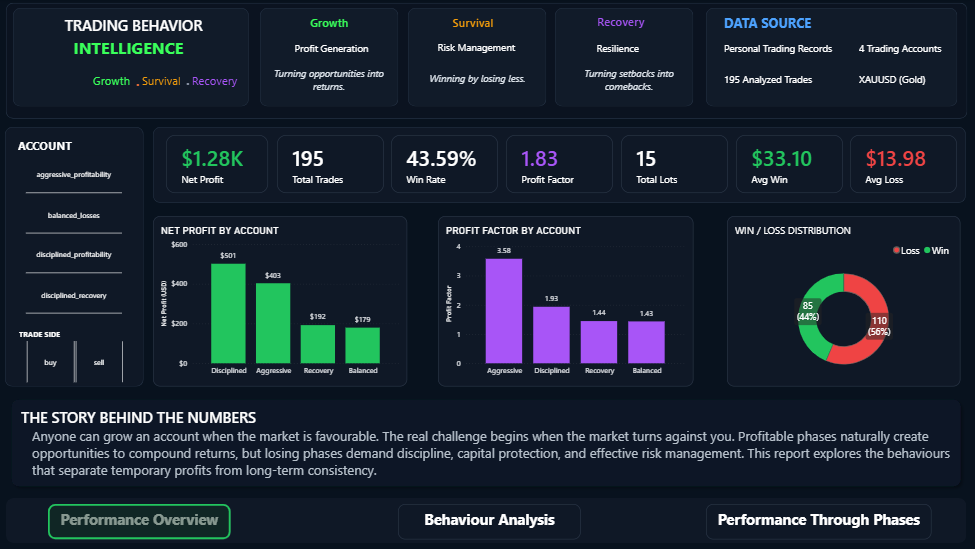

Layout of this report page (visuals, bound fields, positions):
{"tool":"powerbi","page":{"name":"Performance Overview","canvas":[1600,900],"ordinal":0},"visuals":[{"type":"shape","box":[10,3.6,1579.5,195.6],"z":0},{"type":"shape","box":[25.4,14.5,385.8,161.2],"z":1000},{"type":"shape","box":[429.3,14.5,226.4,161.2],"z":2000},{"type":"shape","box":[670.2,14.5,226.4,161.2],"z":3000},{"type":"shape","box":[911.1,14.5,226.4,161.2],"z":4000},{"type":"shape","box":[1159.2,14.5,411.2,161.2],"z":5000},{"type":"shape","box":[10.8,208.8,226.8,424.8],"z":6000},{"type":"shape","box":[253.8,208.8,1330.2,124.2],"z":7000},{"type":"cardVisual","fields":{"Data":["fact_trades.Net Profit"]},"box":[275.4,223.2,167.4,95.4],"z":8000},{"type":"textbox","box":[32.4,21.6,378,54],"z":9000},{"type":"textbox","box":[25.2,55.8,378,48.6],"z":10000},{"type":"shape","box":[12.6,817.2,1571.4,73.8],"z":11000},{"type":"shape","box":[12.6,646.2,1571.4,160.2],"z":12000},{"type":"textbox","box":[150.3,115.9,74.3,38],"z":13000},{"type":"textbox","box":[230,115.9,74.3,38],"z":14000},{"type":"textbox","box":[313.4,115.9,85.1,38],"z":15000},{"type":"textbox","box":[302.5,123.2,16.3,32.6],"z":16000},{"type":"textbox","box":[221,125,16.3,32.6],"z":17000},{"type":"textbox","box":[428.4,21.6,226.8,37.8],"z":18000},{"type":"textbox","box":[669.6,21.6,216,37.8],"z":19000},{"type":"textbox","box":[910.8,19.8,216,39.6],"z":20000},{"type":"textbox","box":[428.4,64.8,234,34.2],"z":21000},{"type":"textbox","box":[669.6,63,226.8,34.2],"z":22000},{"type":"textbox","box":[910.8,64.8,205.2,34.2],"z":23000},{"type":"textbox","box":[442,106.9,199.2,58],"z":24000},{"type":"textbox","box":[684.7,114.1,201.1,52.5],"z":25000},{"type":"textbox","box":[940.1,106.9,186.6,56.2],"z":26000},{"type":"textbox","box":[1182.8,19.9,157.6,41.7],"z":27000},{"type":"textbox","box":[1182.8,65.2,195.6,30.8],"z":28000},{"type":"textbox","box":[1182.8,115.9,172.1,34.4],"z":29000},{"type":"textbox","box":[1403.8,65.2,172.1,34.4],"z":30000},{"type":"textbox","box":[1403.8,115.9,172.1,34.4],"z":31000},{"type":"clusteredColumnChart","title":"NET PROFIT BY ACCOUNT","fields":{"Category":["fact_trades.Display Account"],"Y":["fact_trades.Net Profit"]},"box":[253.8,354.6,415.8,279],"z":32000},{"type":"clusteredColumnChart","title":"PROFIT FACTOR BY ACCOUNT","fields":{"Y":["fact_trades.Profit Factor"],"Category":["fact_trades.Display Account"]},"box":[720,354.6,417.6,279],"z":33000},{"type":"donutChart","title":"WIN / LOSS DISTRIBUTION","fields":{"Category":["fact_trades.result"],"Y":["fact_trades.Total Trades"]},"box":[1193.4,354.6,381.6,279],"z":34000},{"type":"textbox","box":[50.4,694.8,1526.4,95.4],"z":35000},{"type":"textbox","box":[32.4,662.4,410.4,64.8],"z":36000},{"type":"slicer","fields":{"Values":["fact_trades.a/c_name"]},"box":[19.8,223.2,207,298.8],"z":37000},{"type":"slicer","fields":{"Values":["fact_trades.side"]},"box":[21.6,534.6,207,99],"z":38000},{"type":"textbox","box":[81,826.2,298.8,57.6],"z":39000},{"type":"textbox","box":[655.2,826.2,298.8,57.6],"z":40000},{"type":"textbox","box":[1159.2,826.2,369,57.6],"z":41000},{"type":"cardVisual","fields":{"Data":["fact_trades.Total Trades"]},"box":[456,223.2,174.6,95.4],"z":42000},{"type":"cardVisual","fields":{"Data":["fact_trades.Win Rate"]},"box":[643.8,223.2,174.6,95.4],"z":43000},{"type":"cardVisual","fields":{"Data":["fact_trades.Profit Factor"]},"box":[831.6,223.2,174.6,95.4],"z":44000},{"type":"cardVisual","fields":{"Data":["fact_trades.Total Lots"]},"box":[1019.4,223.2,174.6,95.4],"z":45000},{"type":"cardVisual","fields":{"Data":["fact_trades.Avg Win"]},"box":[1207.2,223.2,174.6,95.4],"z":46000},{"type":"cardVisual","fields":{"Data":["fact_trades.Avg Loss"]},"box":[1395,223.2,174.6,95.4],"z":47000},{"type":"actionButton","box":[81,826.2,298.8,57.6],"z":48000},{"type":"actionButton","box":[655.2,826.2,298.8,57.6],"z":49000},{"type":"actionButton","box":[1159.2,826.2,369,57.6],"z":50000}]}

Visuals, with their boxes in screenshot pixels (x1, y1, x2, y2), scaled from the page's 1600x900 canvas onto the 975x549 screenshot:
shape: <region>6, 2, 969, 122</region>
shape: <region>15, 9, 251, 107</region>
shape: <region>262, 9, 400, 107</region>
shape: <region>408, 9, 546, 107</region>
shape: <region>555, 9, 693, 107</region>
shape: <region>706, 9, 957, 107</region>
shape: <region>7, 127, 145, 386</region>
shape: <region>155, 127, 965, 203</region>
cardVisual - fact_trades.Net Profit: <region>168, 136, 270, 194</region>
textbox: <region>20, 13, 250, 46</region>
textbox: <region>15, 34, 246, 64</region>
shape: <region>8, 498, 965, 544</region>
shape: <region>8, 394, 965, 492</region>
textbox: <region>92, 71, 137, 94</region>
textbox: <region>140, 71, 185, 94</region>
textbox: <region>191, 71, 243, 94</region>
textbox: <region>184, 75, 194, 95</region>
textbox: <region>135, 76, 145, 96</region>
textbox: <region>261, 13, 399, 36</region>
textbox: <region>408, 13, 540, 36</region>
textbox: <region>555, 12, 687, 36</region>
textbox: <region>261, 40, 404, 60</region>
textbox: <region>408, 38, 546, 59</region>
textbox: <region>555, 40, 680, 60</region>
textbox: <region>269, 65, 391, 101</region>
textbox: <region>417, 70, 540, 102</region>
textbox: <region>573, 65, 687, 99</region>
textbox: <region>721, 12, 817, 38</region>
textbox: <region>721, 40, 840, 59</region>
textbox: <region>721, 71, 826, 92</region>
textbox: <region>855, 40, 960, 61</region>
textbox: <region>855, 71, 960, 92</region>
"NET PROFIT BY ACCOUNT" clusteredColumnChart: <region>155, 216, 408, 386</region>
"PROFIT FACTOR BY ACCOUNT" clusteredColumnChart: <region>439, 216, 693, 386</region>
"WIN / LOSS DISTRIBUTION" donutChart: <region>727, 216, 960, 386</region>
textbox: <region>31, 424, 961, 482</region>
textbox: <region>20, 404, 270, 444</region>
slicer - fact_trades.a/c_name: <region>12, 136, 138, 318</region>
slicer - fact_trades.side: <region>13, 326, 139, 386</region>
textbox: <region>49, 504, 231, 539</region>
textbox: <region>399, 504, 581, 539</region>
textbox: <region>706, 504, 931, 539</region>
cardVisual - fact_trades.Total Trades: <region>278, 136, 384, 194</region>
cardVisual - fact_trades.Win Rate: <region>392, 136, 499, 194</region>
cardVisual - fact_trades.Profit Factor: <region>507, 136, 613, 194</region>
cardVisual - fact_trades.Total Lots: <region>621, 136, 728, 194</region>
cardVisual - fact_trades.Avg Win: <region>736, 136, 842, 194</region>
cardVisual - fact_trades.Avg Loss: <region>850, 136, 956, 194</region>
actionButton: <region>49, 504, 231, 539</region>
actionButton: <region>399, 504, 581, 539</region>
actionButton: <region>706, 504, 931, 539</region>
